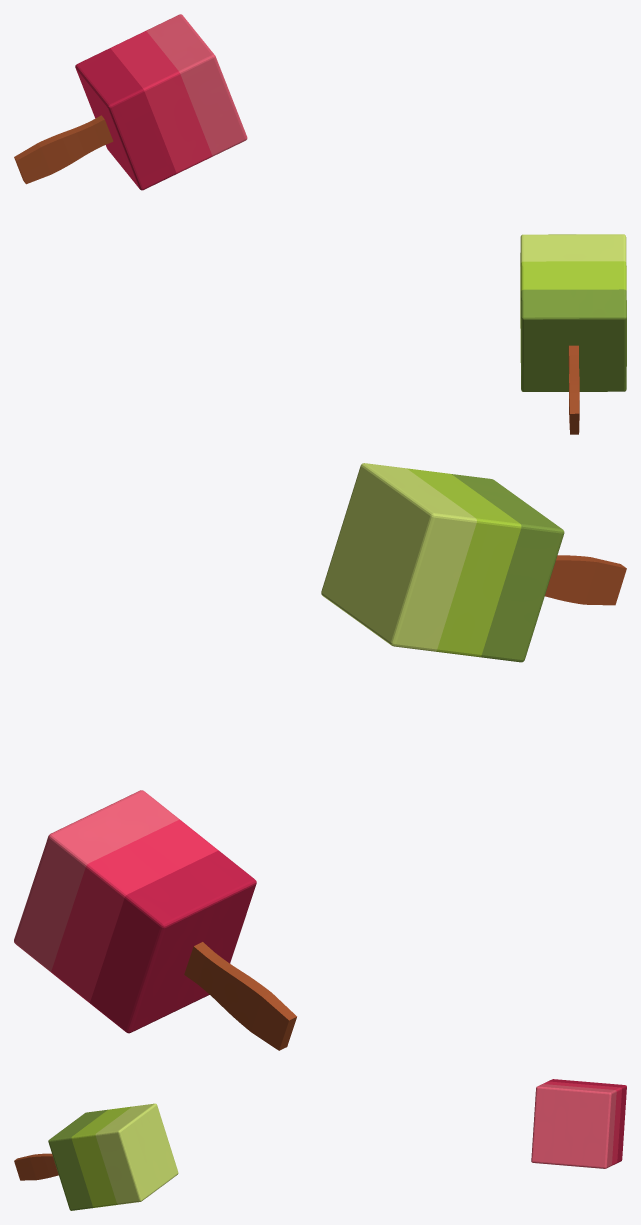
File: Ice Creams.fbx
3 views of the same model, one above another, from view 1: azimuth 30°, elevation 25°; view 2: azimuth 150°, elevation 25°; view 3: azimuth 270°, elevation 25° (orthographic). The views are drawn at different scales.
Parts seen in each view (by area): view 1: Cube.001, Cube.004, Cube.003, Cube.005, Cube, Plane.028, Cube.002, Plane.027; view 2: Cube.002, Cube.004, Cube.003, Cube.005, Cube, Cube.001, Plane.028, Plane.027; view 3: Cube.005, Cube.002, Cube, Cube.001, Plane.027, Cube.003, Cube.004.
Part boxes in pixels (x1,y1,x2,y2): Cube.001: (521,289,626,391); Cube.004: (75,48,176,190); Cube.003: (110,31,212,173); Cube.005: (146,14,247,156); Cube: (520,261,626,362); Plane.028: (14,115,113,184); Cube.002: (520,234,626,328); Plane.027: (568,345,579,434); Cube.002: (321,463,476,651); Cube.004: (90,850,256,1033); Cube.003: (51,819,218,1002); Cube.005: (14,790,179,972); Cube: (407,468,521,657); Cube.001: (451,474,564,662); Plane.028: (184,942,296,1050); Plane.027: (545,555,626,605); Cube.005: (531,1084,616,1168); Cube.002: (95,1103,178,1204); Cube: (71,1106,131,1207); Cube.001: (48,1109,107,1210); Plane.027: (14,1153,58,1180); Cube.003: (543,1081,621,1165); Cube.004: (548,1079,626,1163).
Size of the model in its own units: 1452 by 589 by 3575.
1 material, 1 textured.
